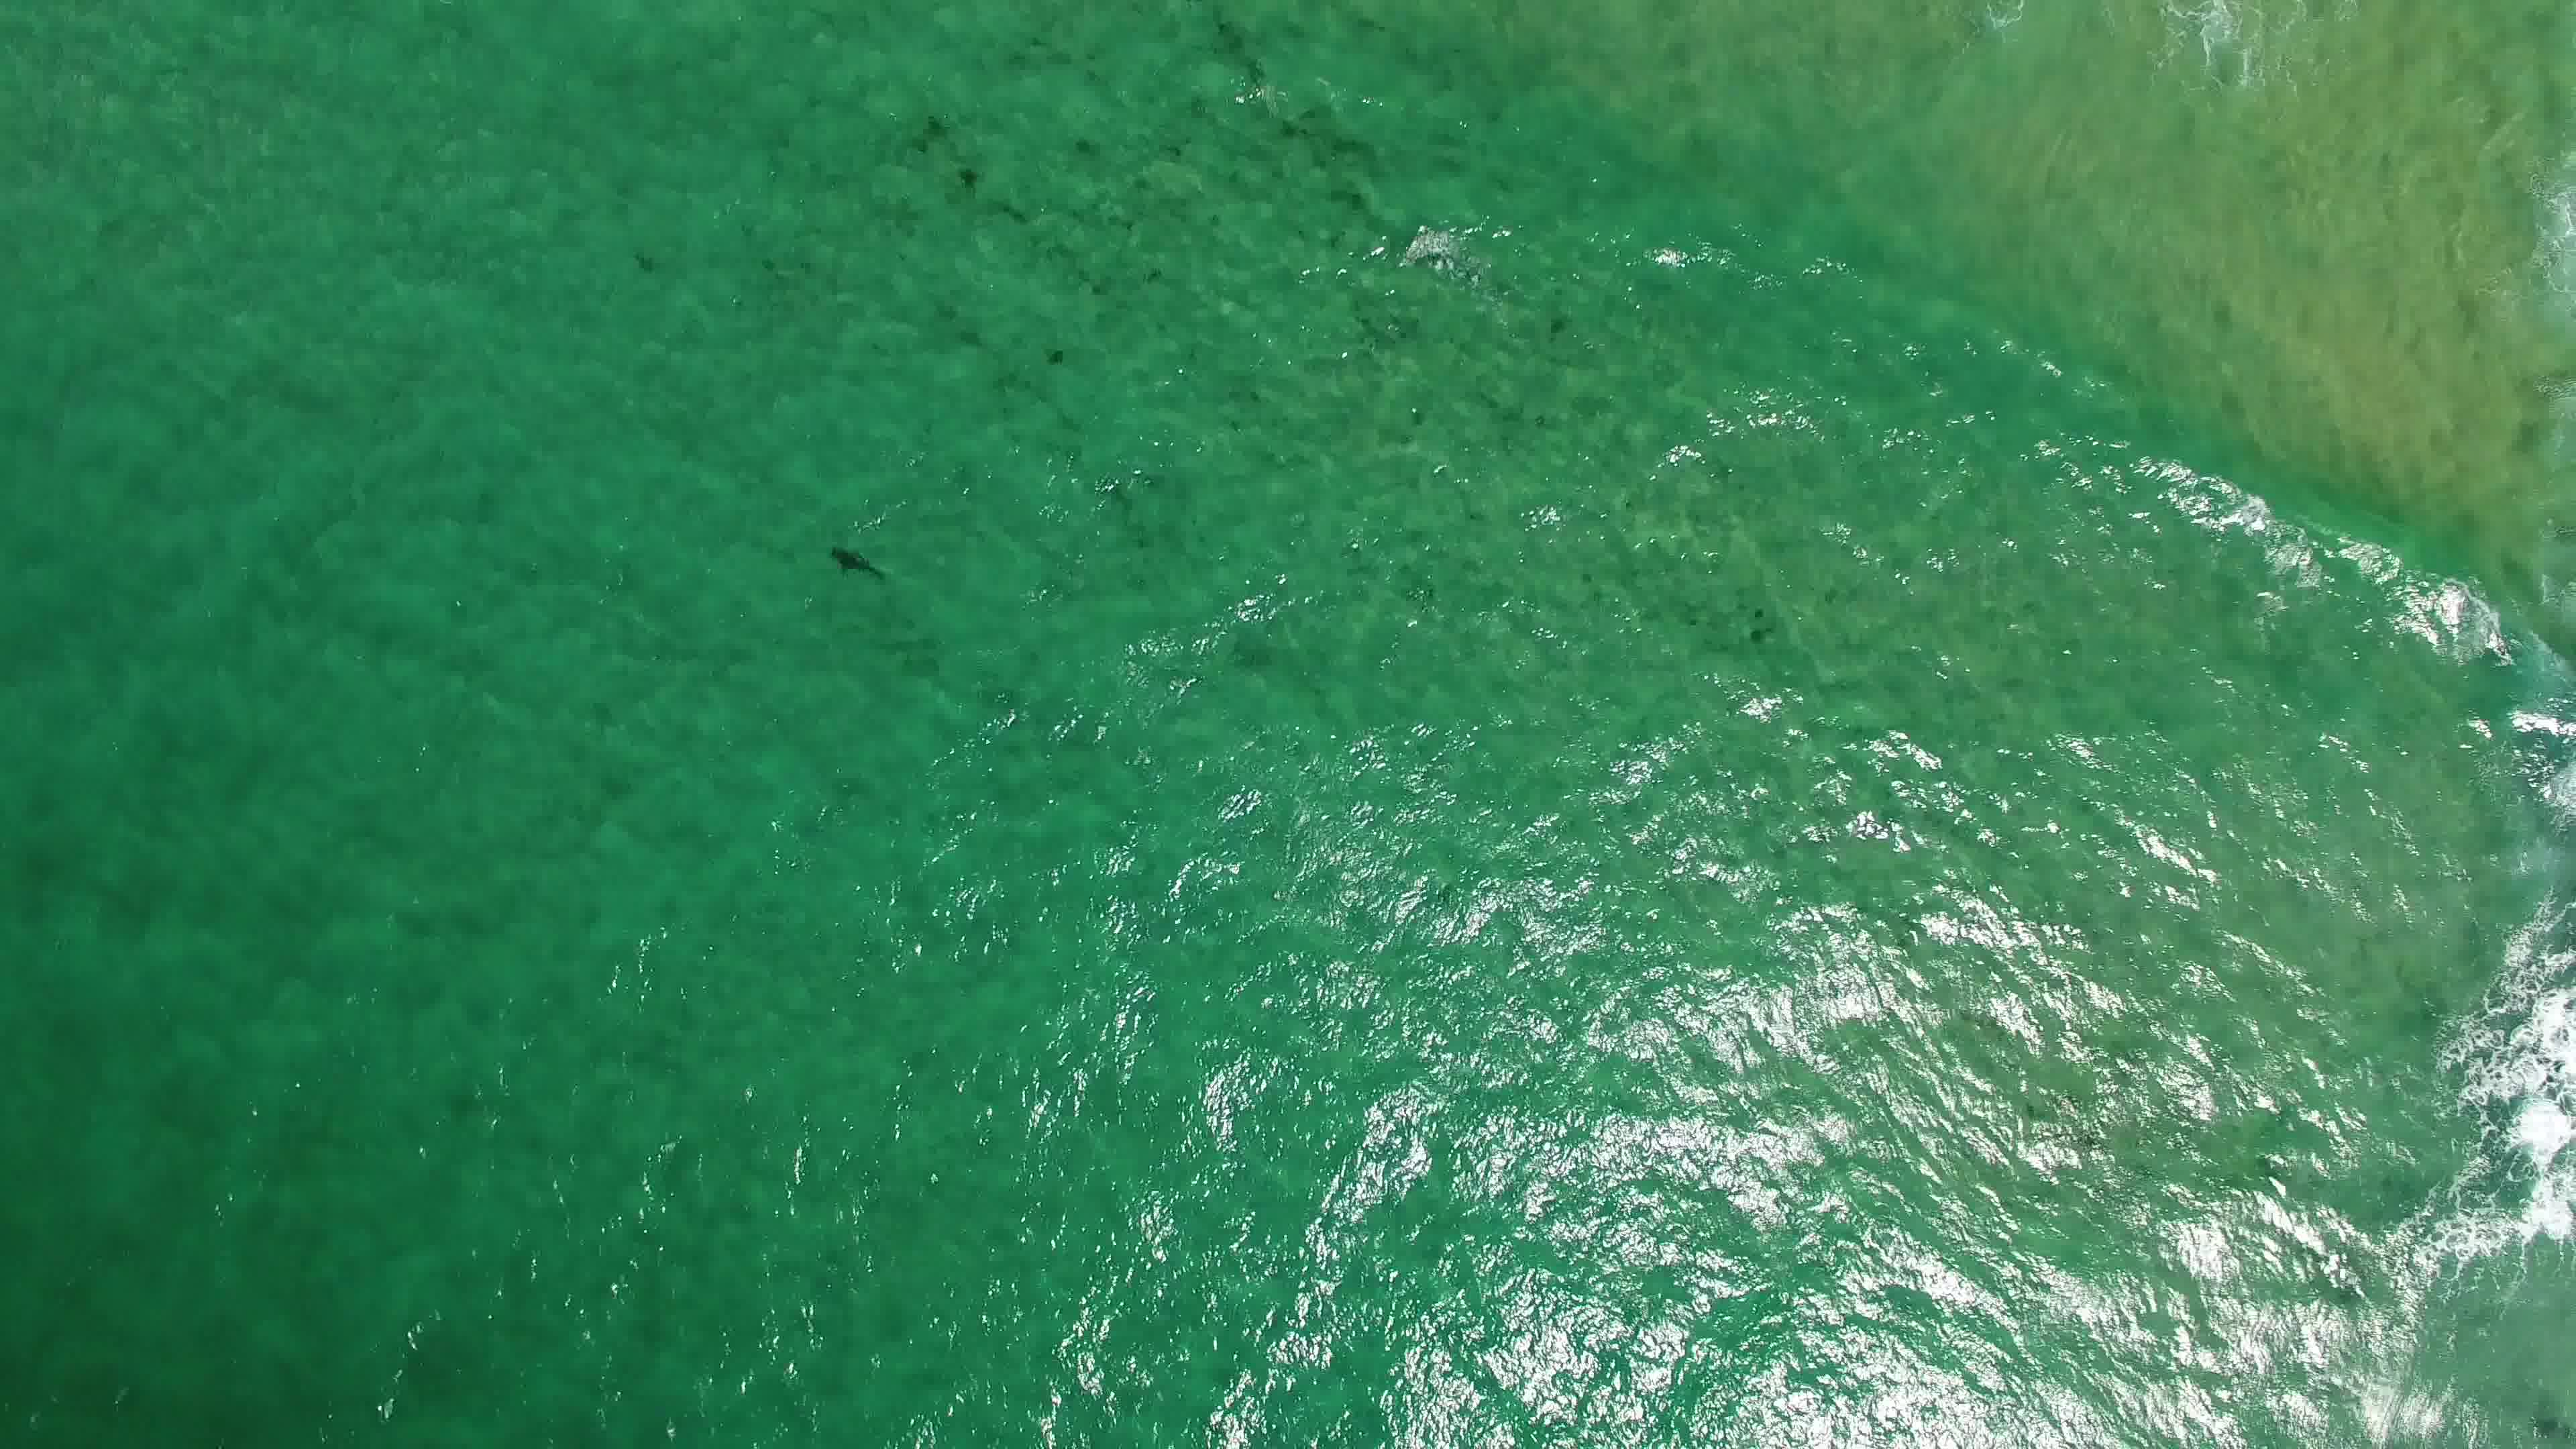shark: (824, 541, 883, 579)
